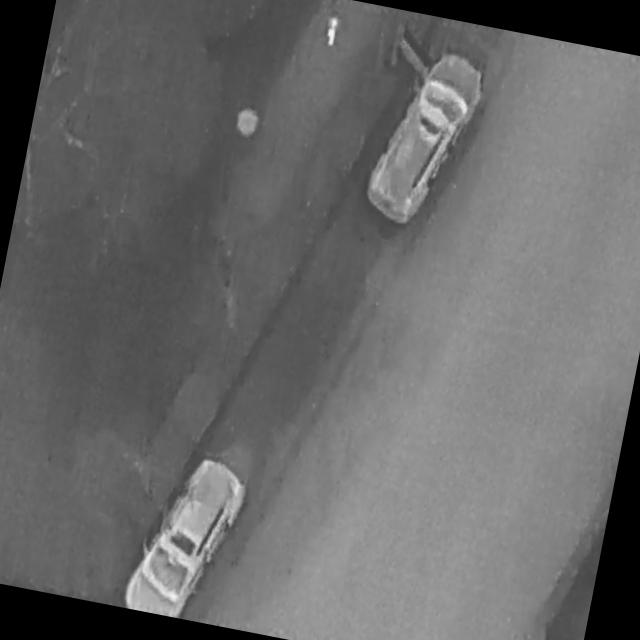person: (323, 10, 342, 52)
